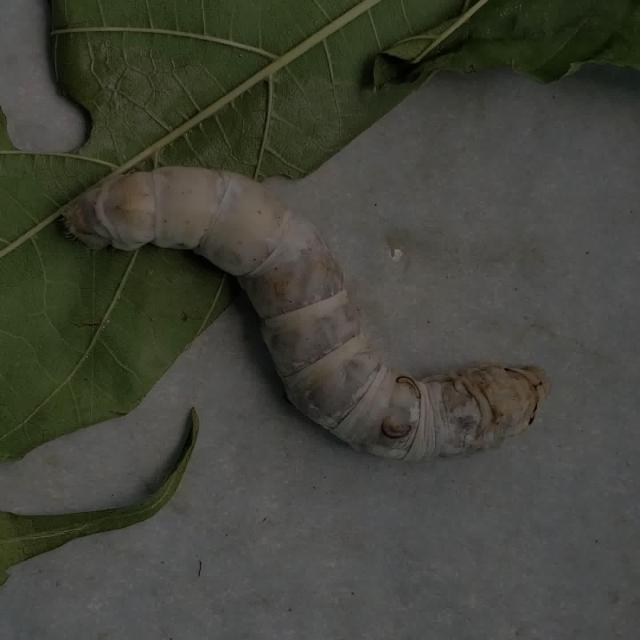Grasserie: (33, 135, 571, 497)
